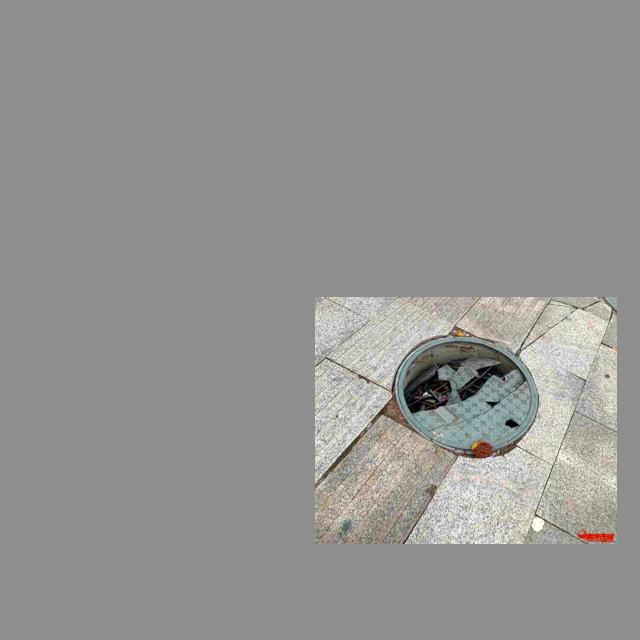broke: (390, 332, 544, 460)
